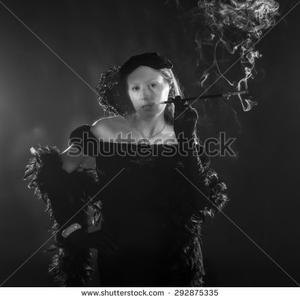cigarette: (220, 89, 254, 97)
